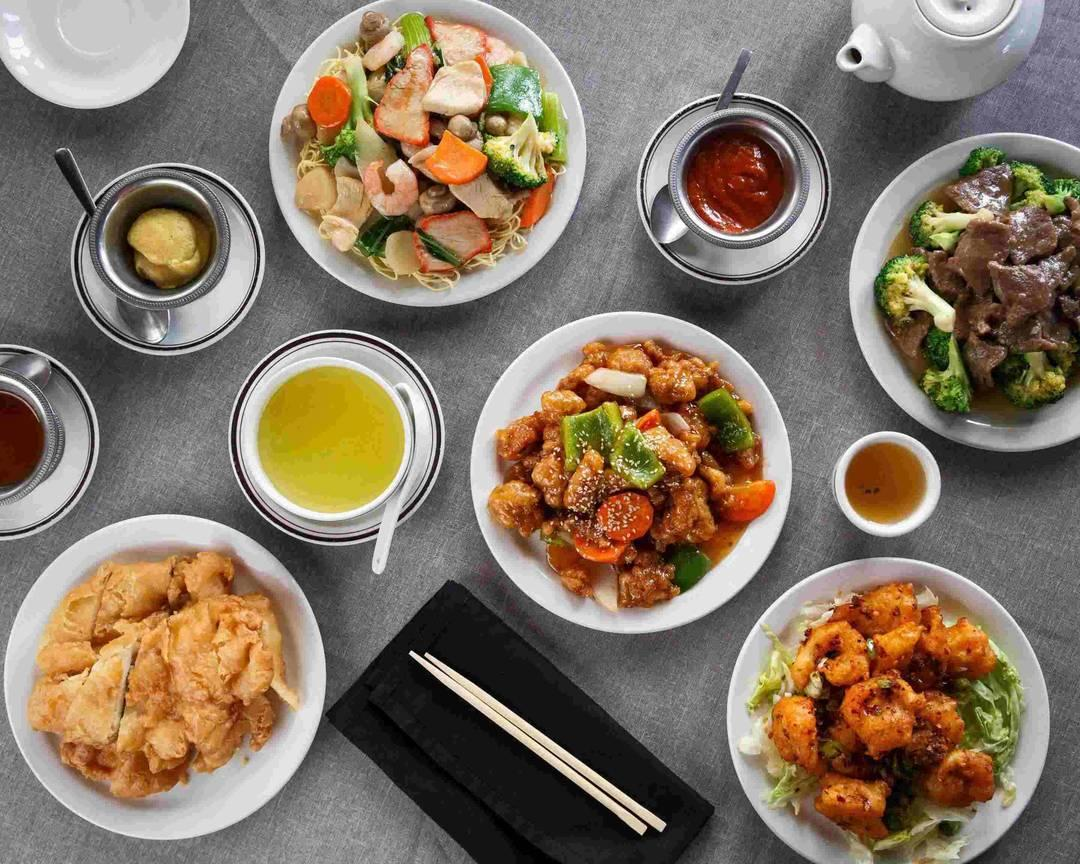Braised Crucian Carp: (2, 516, 326, 838), (468, 314, 775, 632), (723, 561, 1049, 856), (268, 3, 577, 305), (847, 130, 1076, 448)
